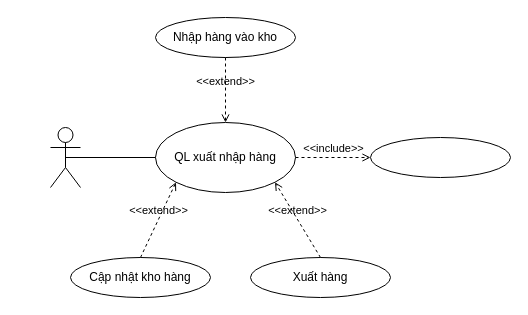
Some shapes in this 528 by 315 pixel diagram are drawn without their labels. The shapes that lost their labels are listed below. From the top down, each one's centre as x and y in pixels, then its label:
the point at 65,157: ADMIN, nhân viên
the point at 440,157: Đăng nhập thành công
